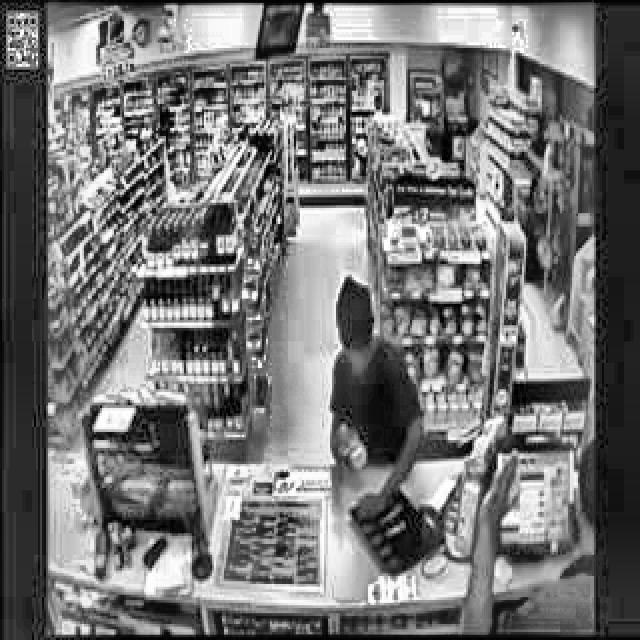robbery: (326, 275, 428, 527), (459, 439, 593, 630)
